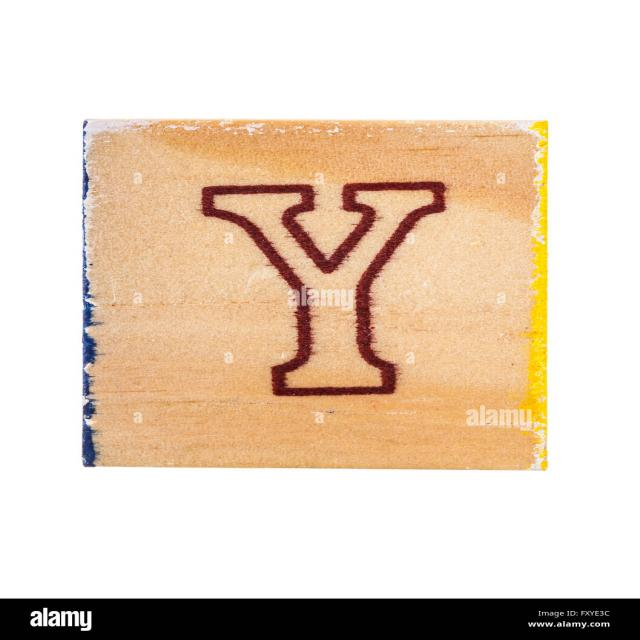Y: (180, 162, 493, 450)
